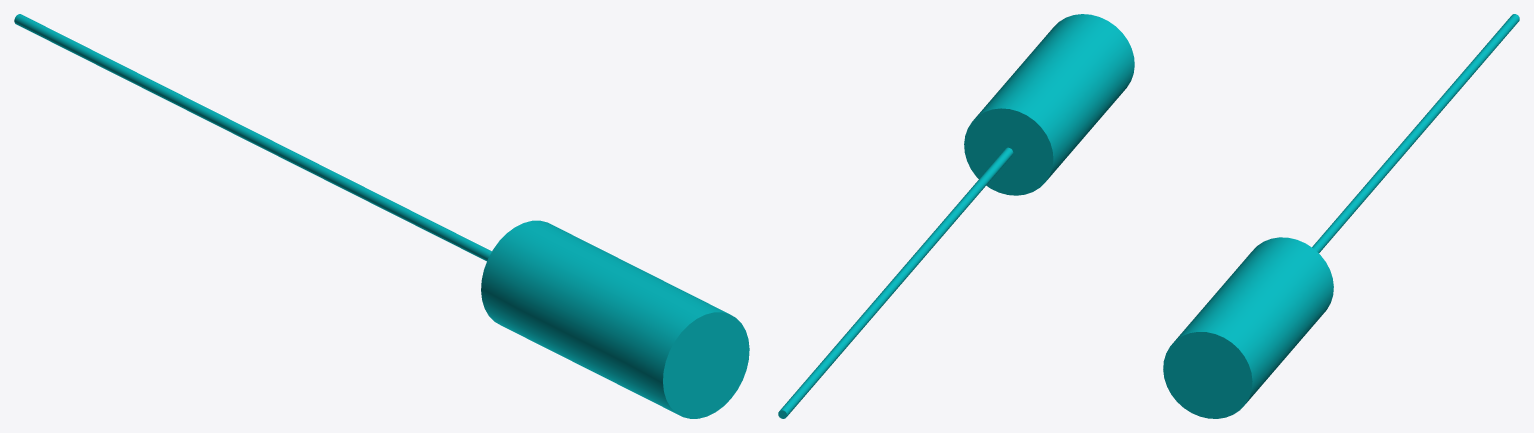
File: sandbag.fbx
3 views of the same model, side by side, from view 1: azimuth 30°, elevation 25°; view 2: azimuth 150°, elevation 25°; view 3: azimuth 330°, elevation 25° (orthographic). The views are drawn at different scales.
Parts seen in each view (by area): view 1: Cylinder, rope; view 2: Cylinder, rope; view 3: Cylinder, rope.
Part boxes in pixels (<box>): Cylinder: <box>481,220,749,418</box>; rope: <box>14,14,491,261</box>; Cylinder: <box>964,14,1134,195</box>; rope: <box>778,147,1013,418</box>; Cylinder: <box>1163,237,1333,418</box>; rope: <box>1312,14,1519,252</box>.
Size of the model in its own units: 218 by 940 by 99.98.
